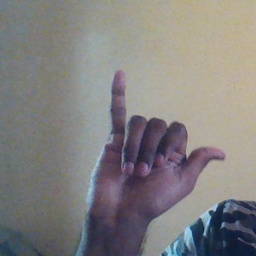J: (85, 68, 227, 221)
